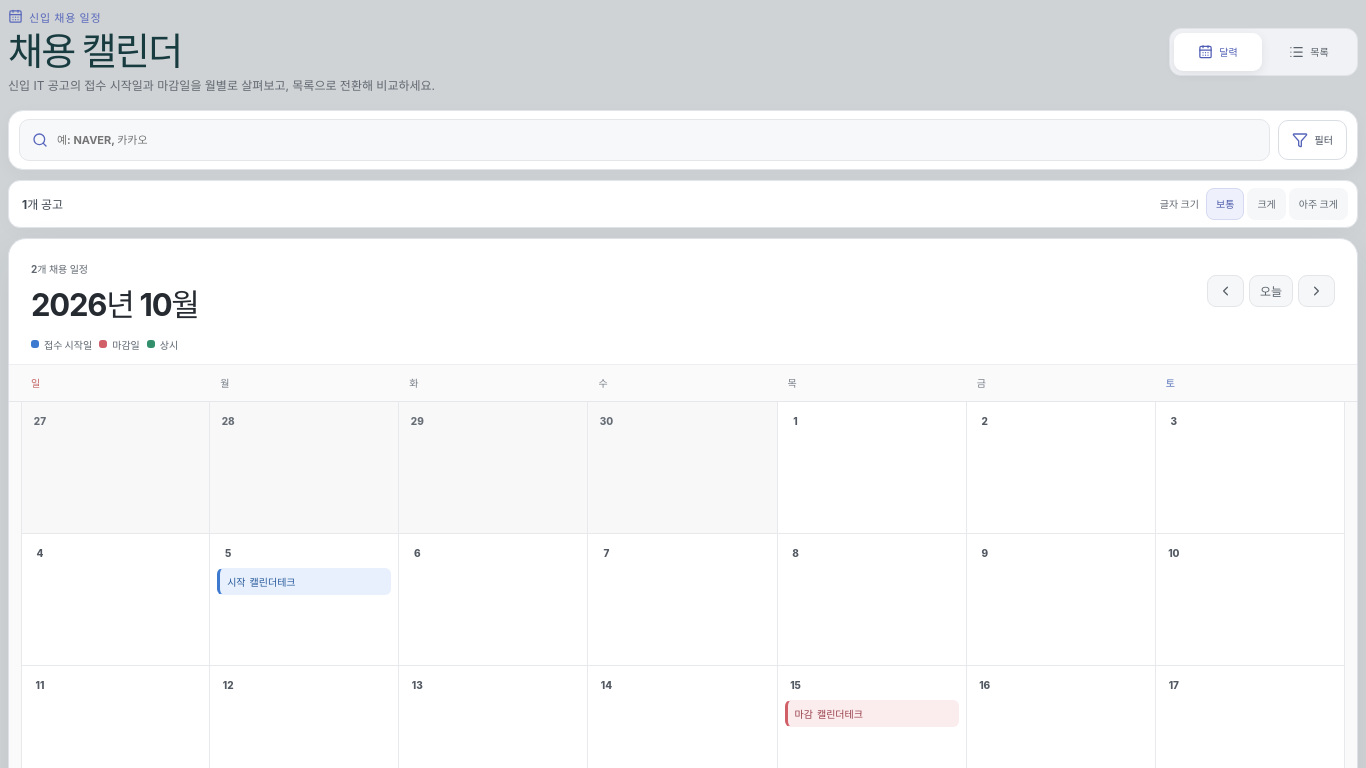
Test: domain pages › shows company deadlines in a monthly calendar with prominent source details
Click the button "목록".
click(1309, 52)  # box [1265, 33, 1353, 71]
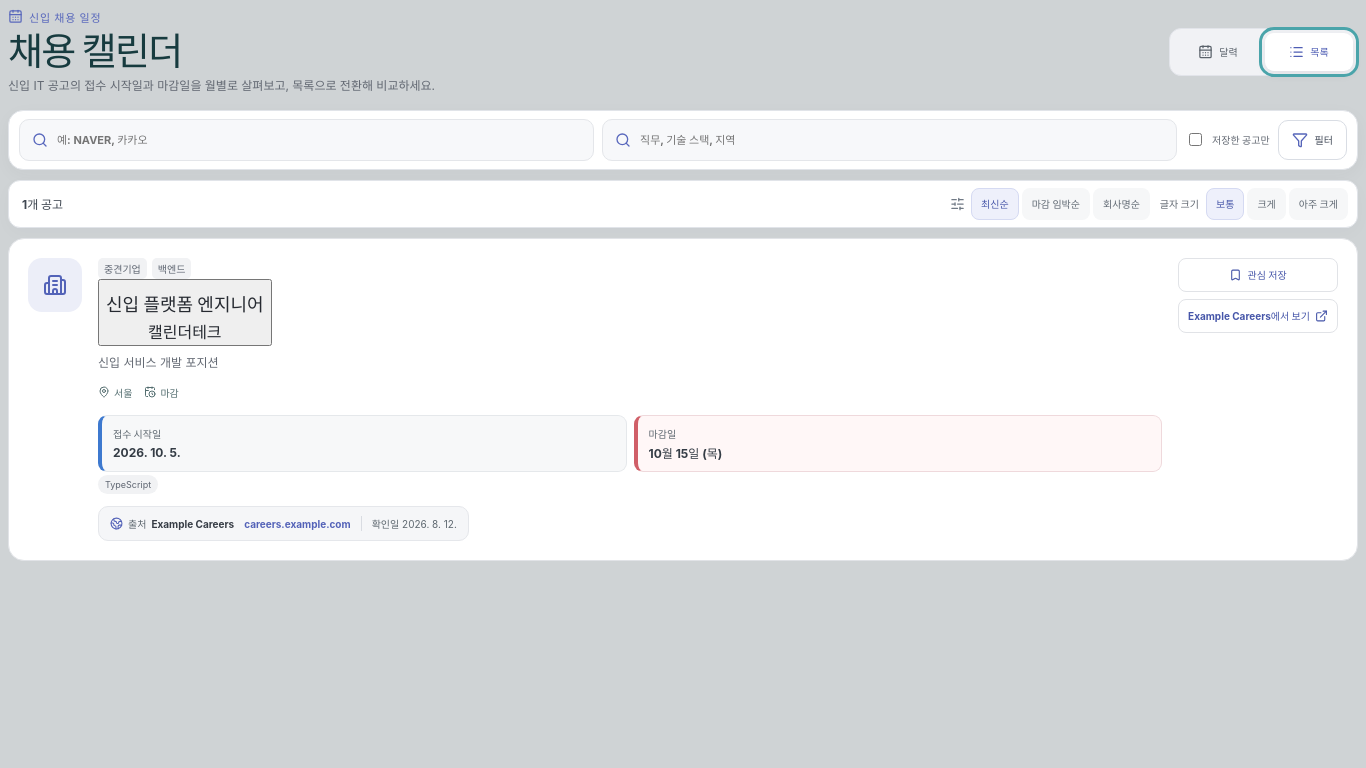
Expected: the text "Example Careers" is shown, [151, 518, 234, 530]
Expected: the text "careers.example.com" is shown, [244, 518, 351, 530]
Expected: the text "확인일 2026. 8. 12." is shown, [361, 516, 457, 531]
Click the button "달력".
click(1218, 52)  # box [1174, 33, 1262, 71]
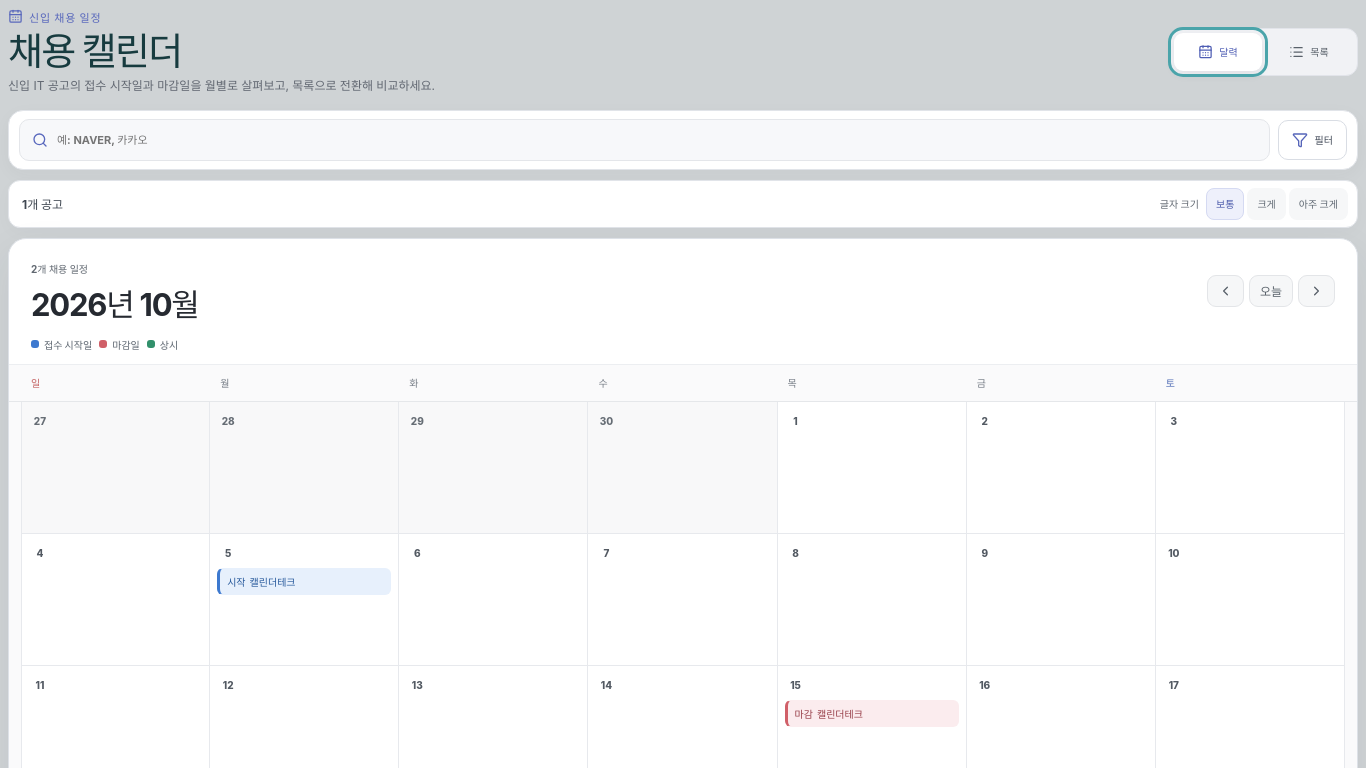
Expected: the text "접수 시작일" is shown, [31, 337, 92, 352]
Expected: the text "상시" is shown, [147, 337, 178, 352]
Click the button with aria-label "캘린더테크 신입 플랫폼 엔지니어 접수 시작일 상세 보기".
click(304, 581)  # box [217, 568, 391, 595]
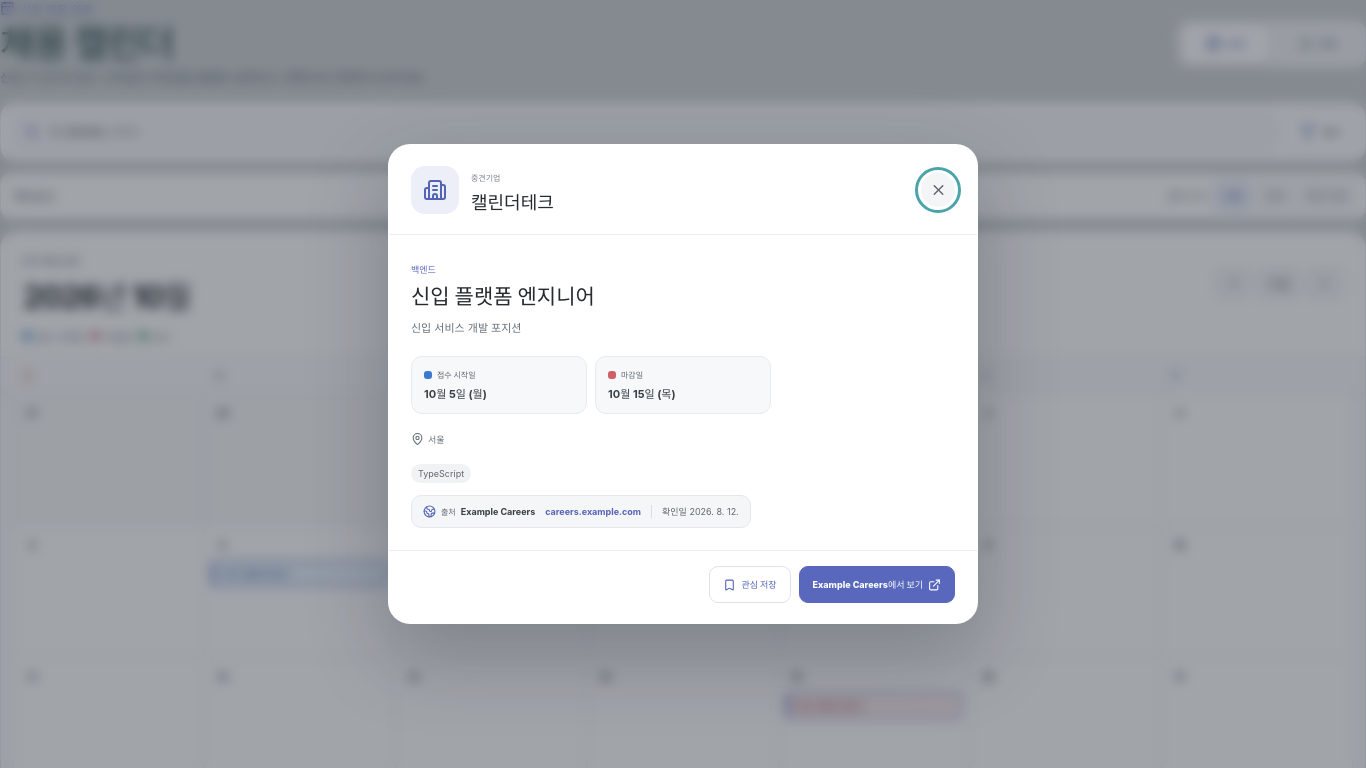
Expected: the dialog "캘린더테크" is shown, [388, 144, 978, 624]
Expected: the dialog "캘린더테크" shows "신입 플랫폼 엔지니어", [411, 284, 595, 309]
